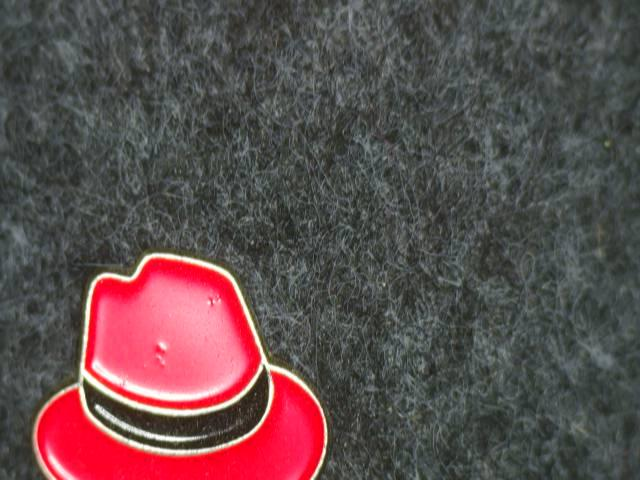Red-Hat: (14, 233, 358, 480)
